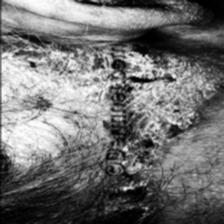Non-Cancerous Skin Condition: (0, 48, 100, 152), (129, 48, 201, 156), (92, 186, 144, 224)
